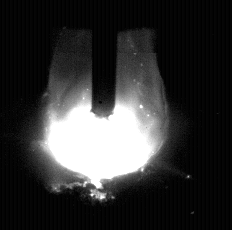arame: (93, 0, 117, 118)
poca: (43, 0, 170, 230)
